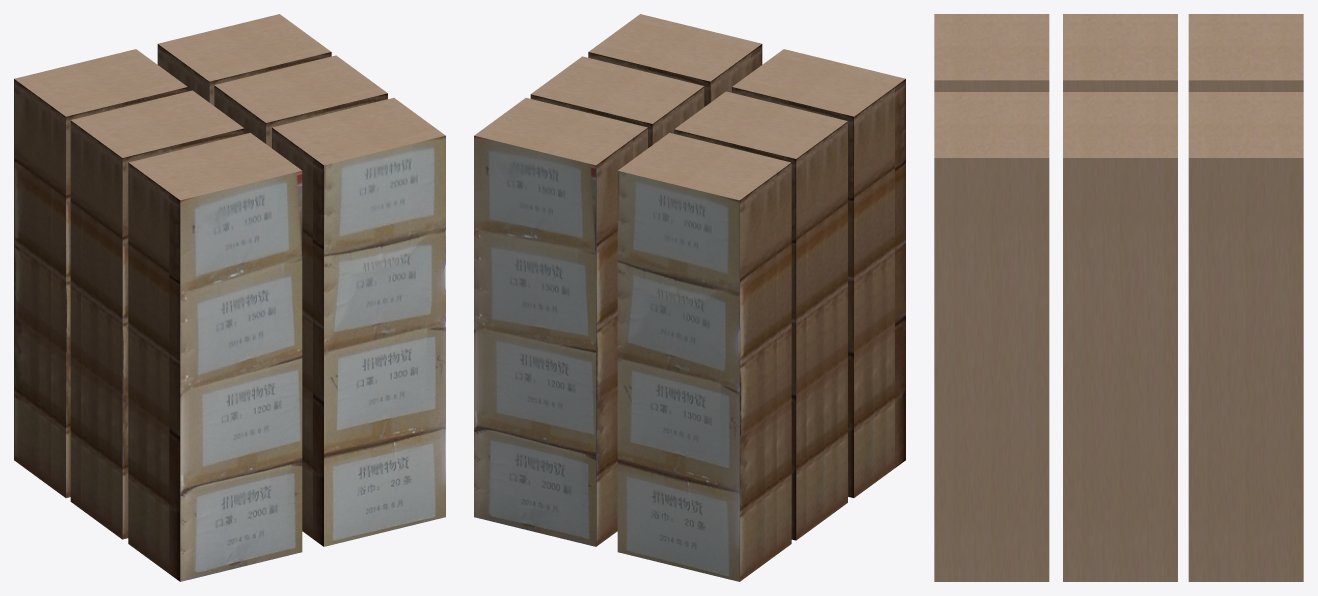
The model's file is kouzhao.FBX.
3 views of the same model, side by side, from view 1: azimuth 30°, elevation 25°; view 2: azimuth 150°, elevation 25°; view 3: azimuth 270°, elevation 25° (orthographic). The views are drawn at different scales.
Parts seen in each view (by area): view 1: 对象38; view 2: 对象38; view 3: 对象38.
Boxes of the visible parts, left/top/right/bottom form: 对象38: left=14, top=14, right=445, bottom=581; 对象38: left=474, top=14, right=905, bottom=581; 对象38: left=934, top=14, right=1303, bottom=581.
Bounding box in the file's own units: 0.8543 × 0.926 × 1.17.
